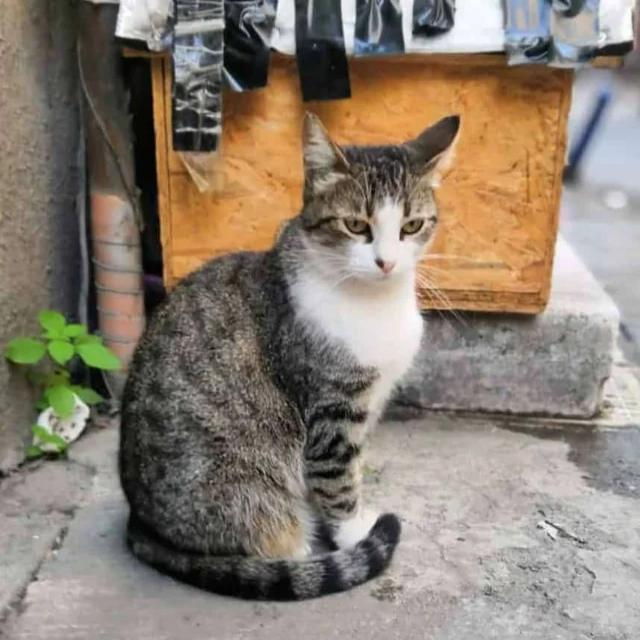cat: (120, 114, 459, 599)
